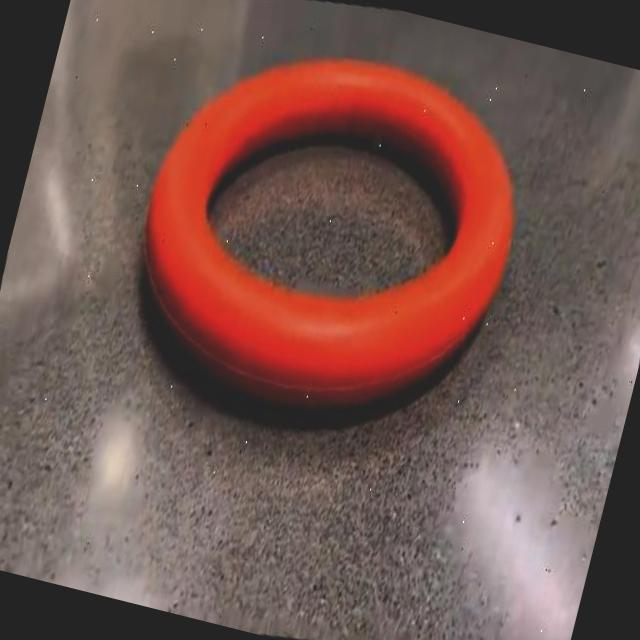note: (145, 58, 513, 408)
